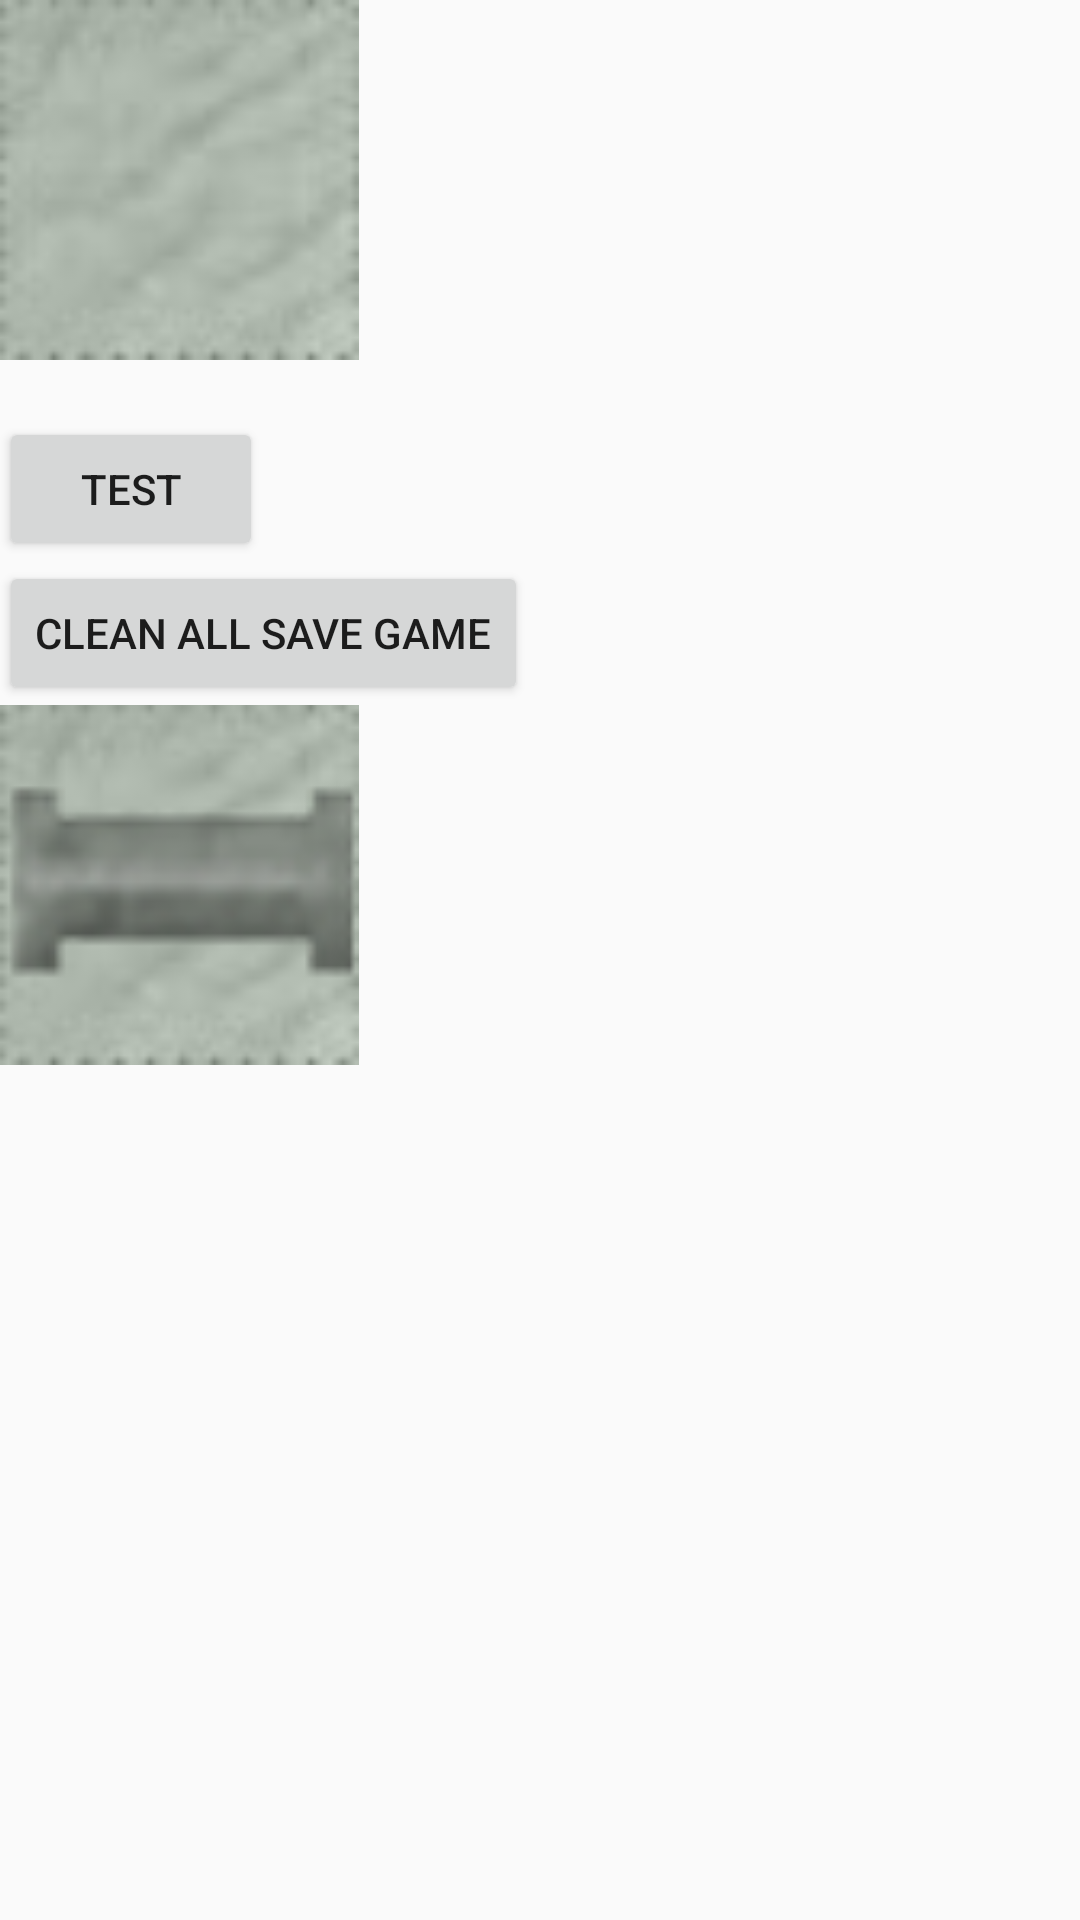

Point at icon controls on the screen. Image size 1080 x 1920, points as point (x, y).
horizontal: point (179, 885)
